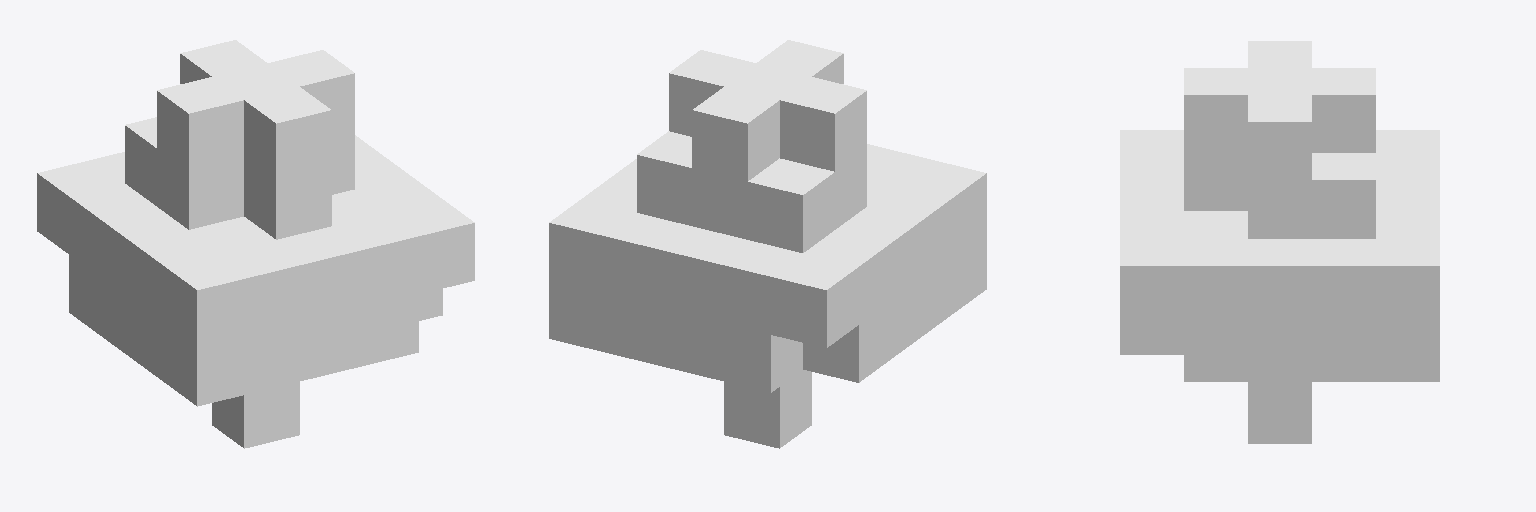
Rendered from Tree03.obj.
3 renders of one model, left to right at view 1: azimuth 30°, elevation 25°; view 2: azimuth 150°, elevation 25°; view 3: azimuth 270°, elevation 25°, orthographic.
Parts seen in each view (by area): view 1: RepoMap__41_-8_35_to_45_319_39; view 2: RepoMap__41_-8_35_to_45_319_39; view 3: RepoMap__41_-8_35_to_45_319_39.
Boxes of the visible parts, x1=… form: RepoMap__41_-8_35_to_45_319_39: x1=37, y1=40, x2=474, y2=448; RepoMap__41_-8_35_to_45_319_39: x1=549, y1=40, x2=986, y2=448; RepoMap__41_-8_35_to_45_319_39: x1=1120, y1=41, x2=1439, y2=443.
Size of the model in its own units: 5 by 6 by 5.